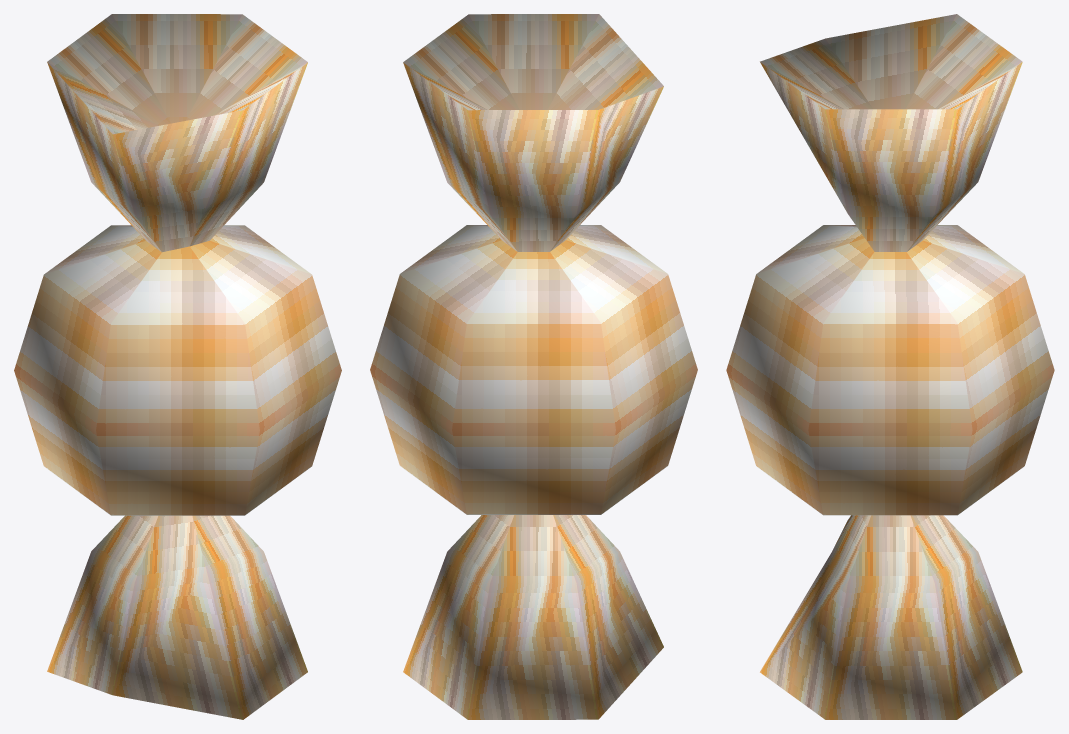
The model's file is hcandyorange.glb.
The picture shows the model from 3 angles, left to right: view 1: azimuth 30°, elevation 25°; view 2: azimuth 150°, elevation 25°; view 3: azimuth 270°, elevation 25°; orthographic projection.
Visible parts, largest first — view 1: model_hcandyorange; view 2: model_hcandyorange; view 3: model_hcandyorange.
Boxes of the visible parts, left/top/right/bottom form: model_hcandyorange: left=14, top=14, right=341, bottom=719; model_hcandyorange: left=370, top=14, right=697, bottom=719; model_hcandyorange: left=726, top=14, right=1054, bottom=719.
Size of the model in its own units: 0.1435 by 0.3399 by 0.1657.
Materials: 1 (1 with a texture image).
